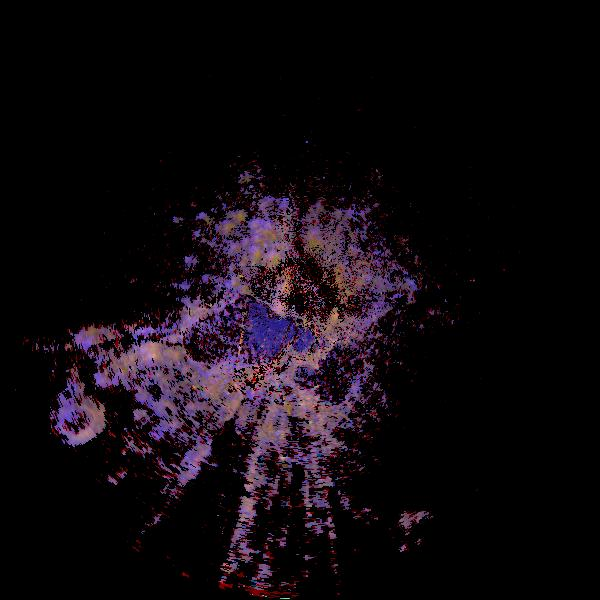roost: (36, 367, 132, 463)
